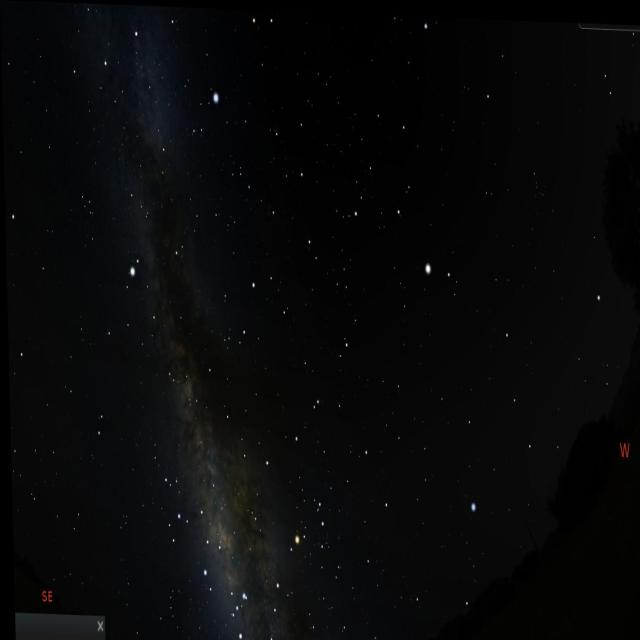aquila: (90, 213, 196, 393)
bootes: (364, 85, 464, 312)
cygnus: (96, 3, 181, 178)
lyra: (187, 86, 224, 144)
sagittarius: (154, 466, 226, 604)
scorpius: (218, 468, 333, 640)
